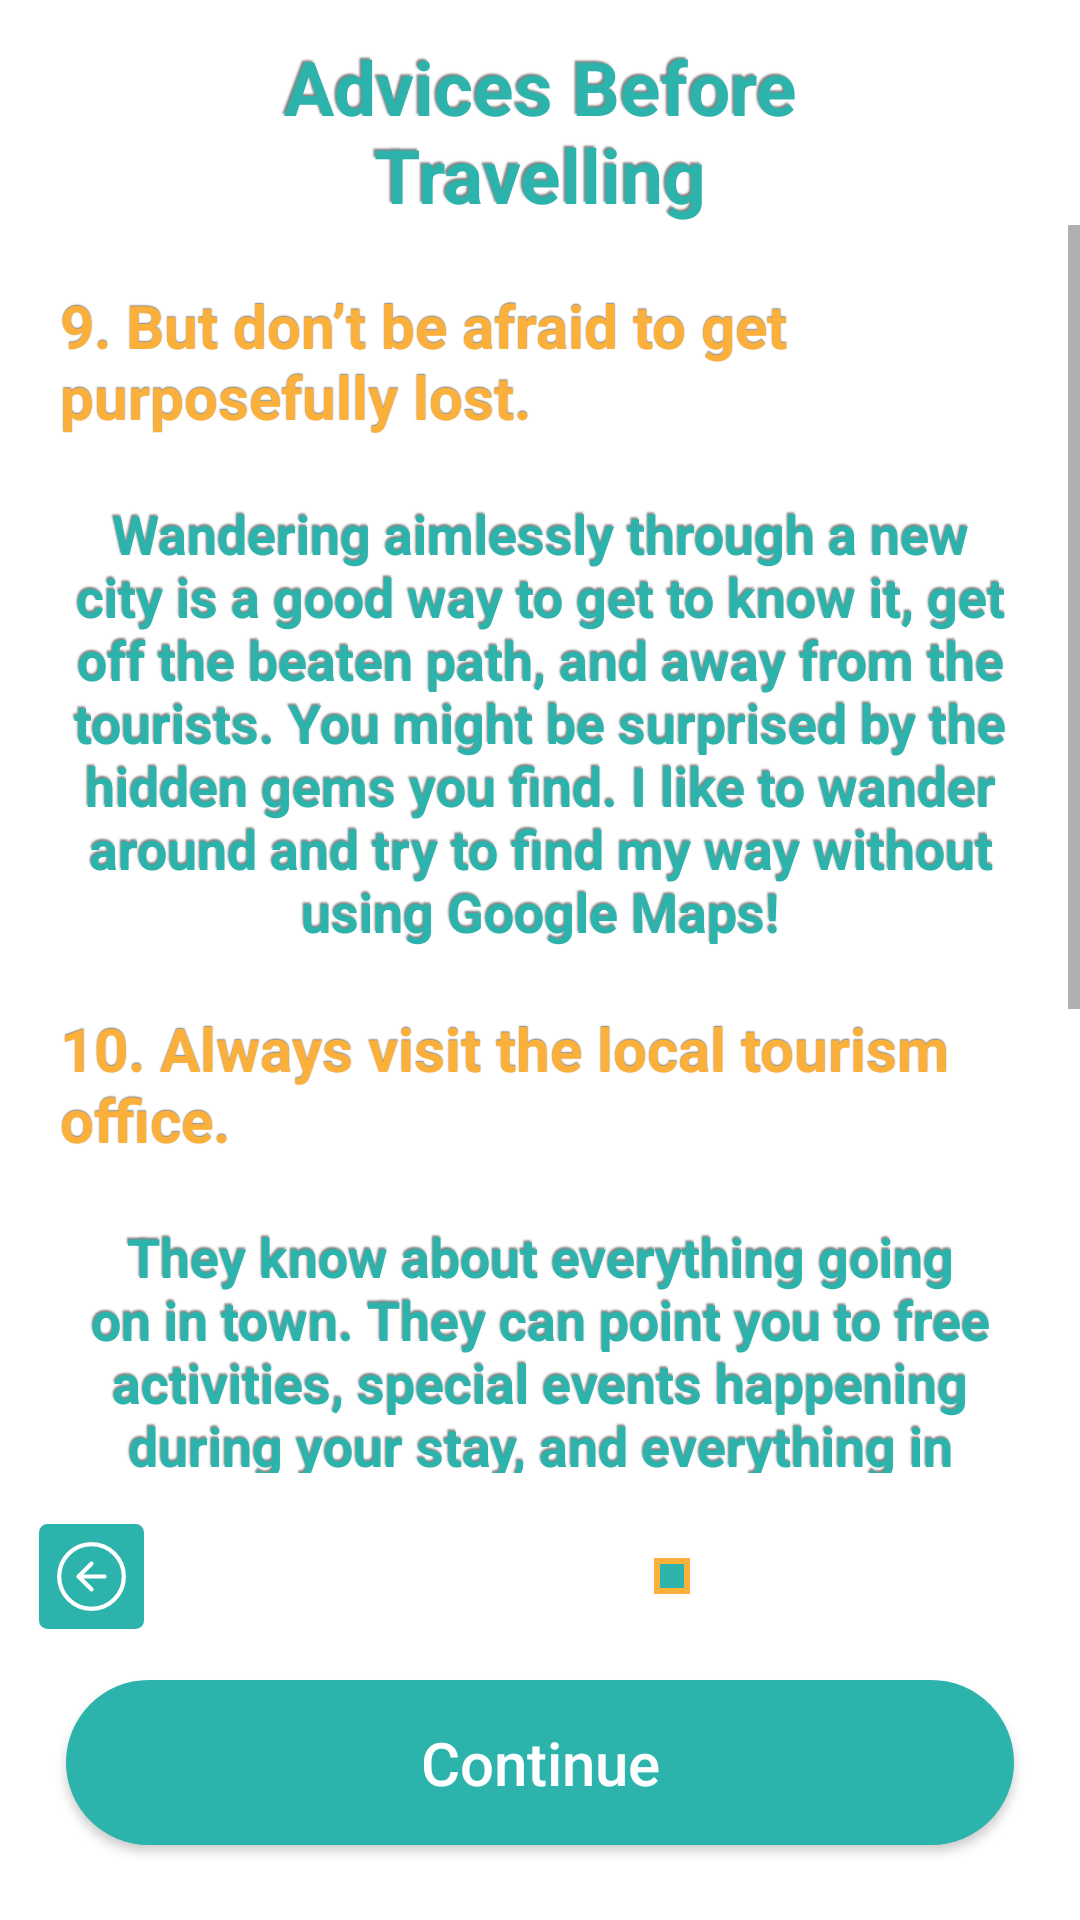

Point at icon controls on the screen. Image size 1080x1920, points as (x,y).
prev: (91,1576)
